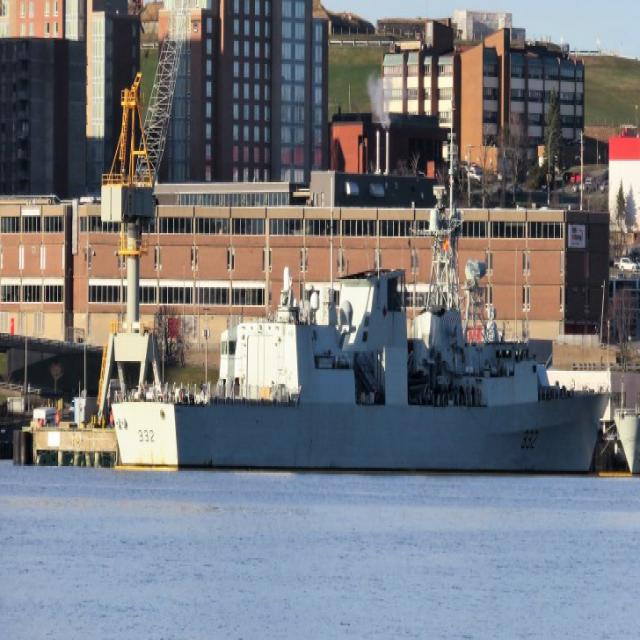Fragata: (105, 179, 615, 484)
